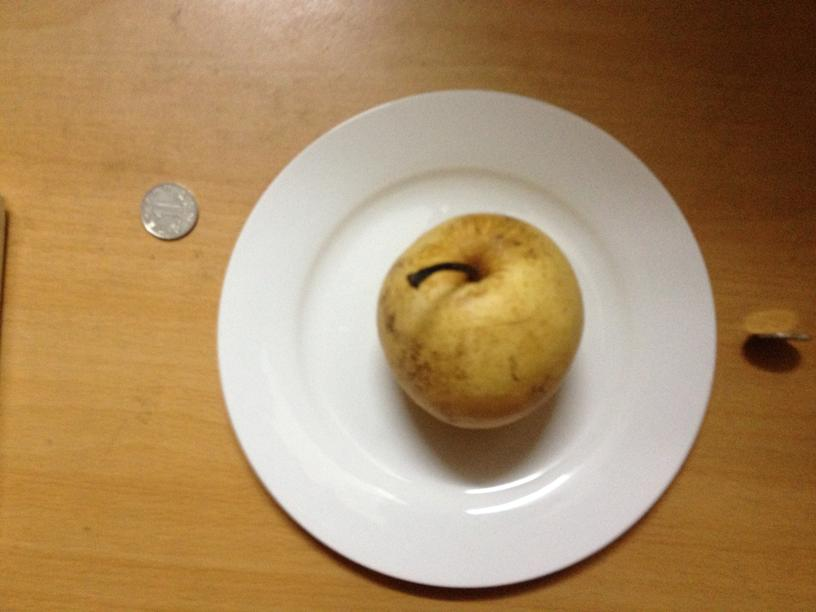coin: (139, 180, 196, 240)
pear: (375, 211, 586, 429)
